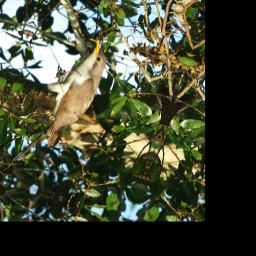Cuckoo: (14, 24, 117, 159)
